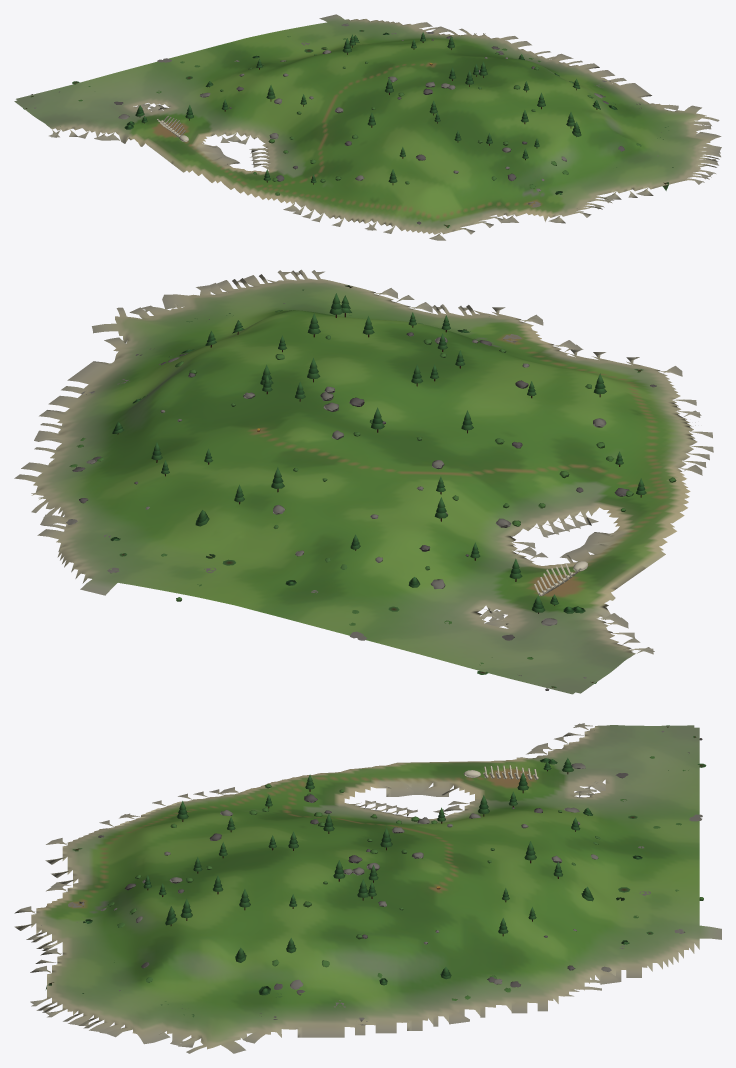
File: arch_isl_coil_isle.glb
3 renders of one model, top to bottom at view 1: azimuth 30°, elevation 25°; view 2: azimuth 150°, elevation 25°; view 3: azimuth 270°, elevation 25°, orthographic. The views are drawn at different scales.
Parts seen in each view (by area): view 1: arch_isl_coil_isle; view 2: arch_isl_coil_isle; view 3: arch_isl_coil_isle.
Boxes of the visible parts, bbox=[...] form: arch_isl_coil_isle: bbox=[14, 14, 721, 240]; arch_isl_coil_isle: bbox=[14, 269, 713, 694]; arch_isl_coil_isle: bbox=[14, 723, 721, 1053].
Bounding box in the file's own units: 300 × 32.67 × 271.
